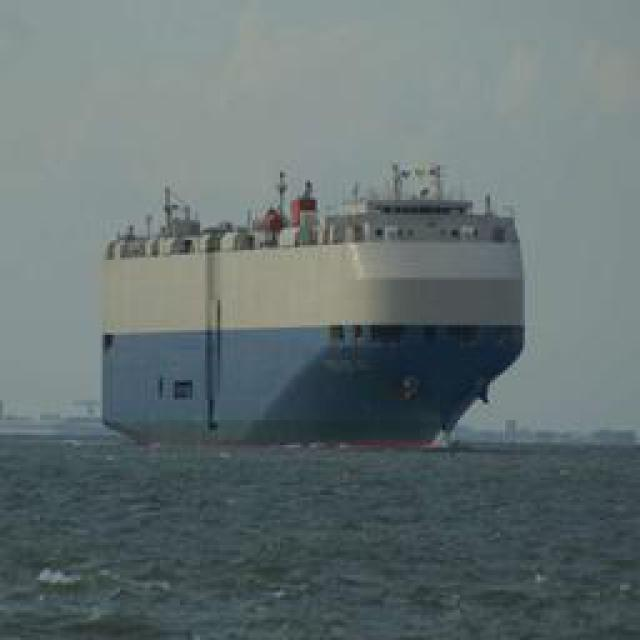Ship: (96, 169, 529, 449)
